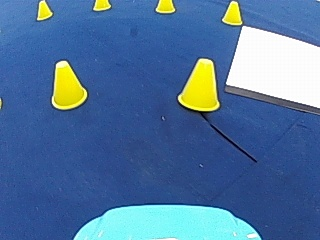cone: (177, 56, 220, 111), (50, 58, 87, 109), (221, 0, 242, 25), (36, 0, 52, 20), (155, 0, 174, 13), (93, 0, 109, 11)
